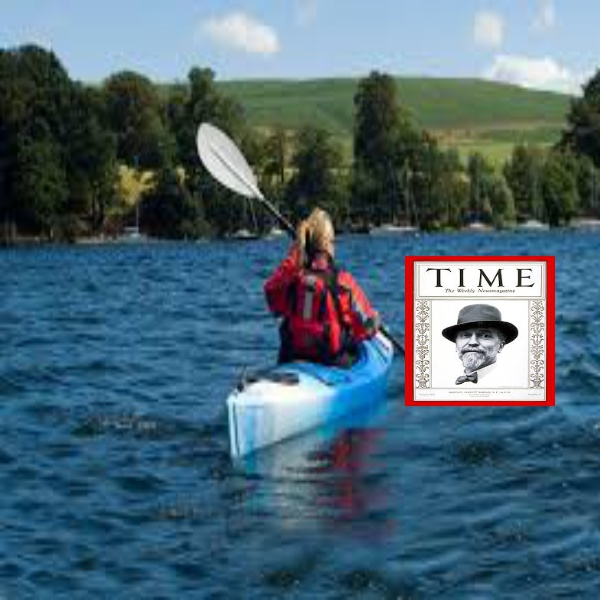time_cover: (400, 243, 559, 414)
